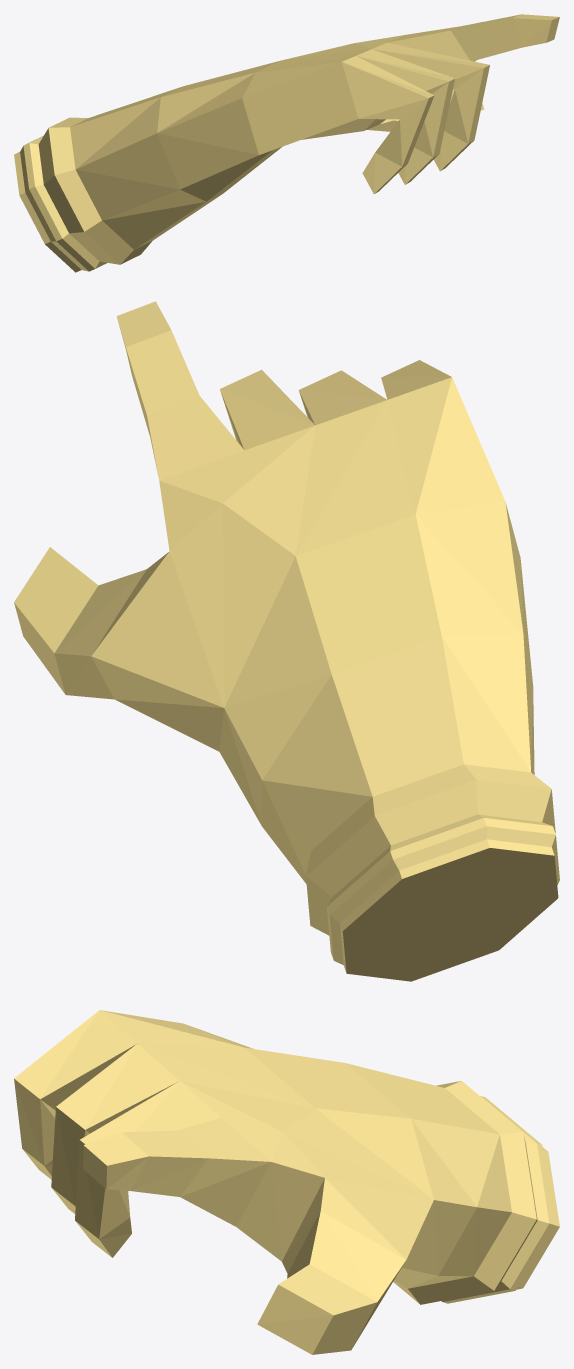
Rendered from HAND.FBX.
3 views of the same model, one above another, from view 1: azimuth 30°, elevation 25°; view 2: azimuth 150°, elevation 25°; view 3: azimuth 270°, elevation 25° (orthographic). The views are drawn at different scales.
Parts seen in each view (by area): view 1: hand; view 2: hand; view 3: hand.
Part boxes in pixels (left/top/right/bottom): hand: left=14, top=14, right=559, bottom=272; hand: left=14, top=301, right=559, bottom=981; hand: left=14, top=1010, right=559, bottom=1354.
Size of the model in its own units: 31.59 by 19.99 by 27.42.
